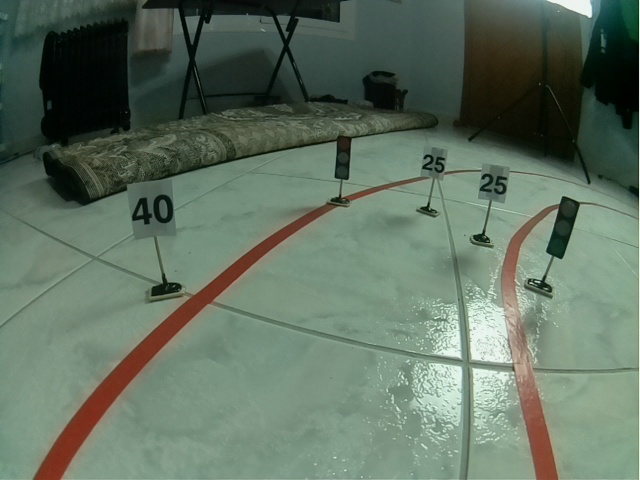Green Traffic Light: (545, 196, 580, 261)
Red Traffic Light: (334, 135, 352, 181)
Speed Limit 25: (478, 163, 510, 203), (421, 147, 448, 181)
Speed Limit 40: (127, 180, 177, 240)
